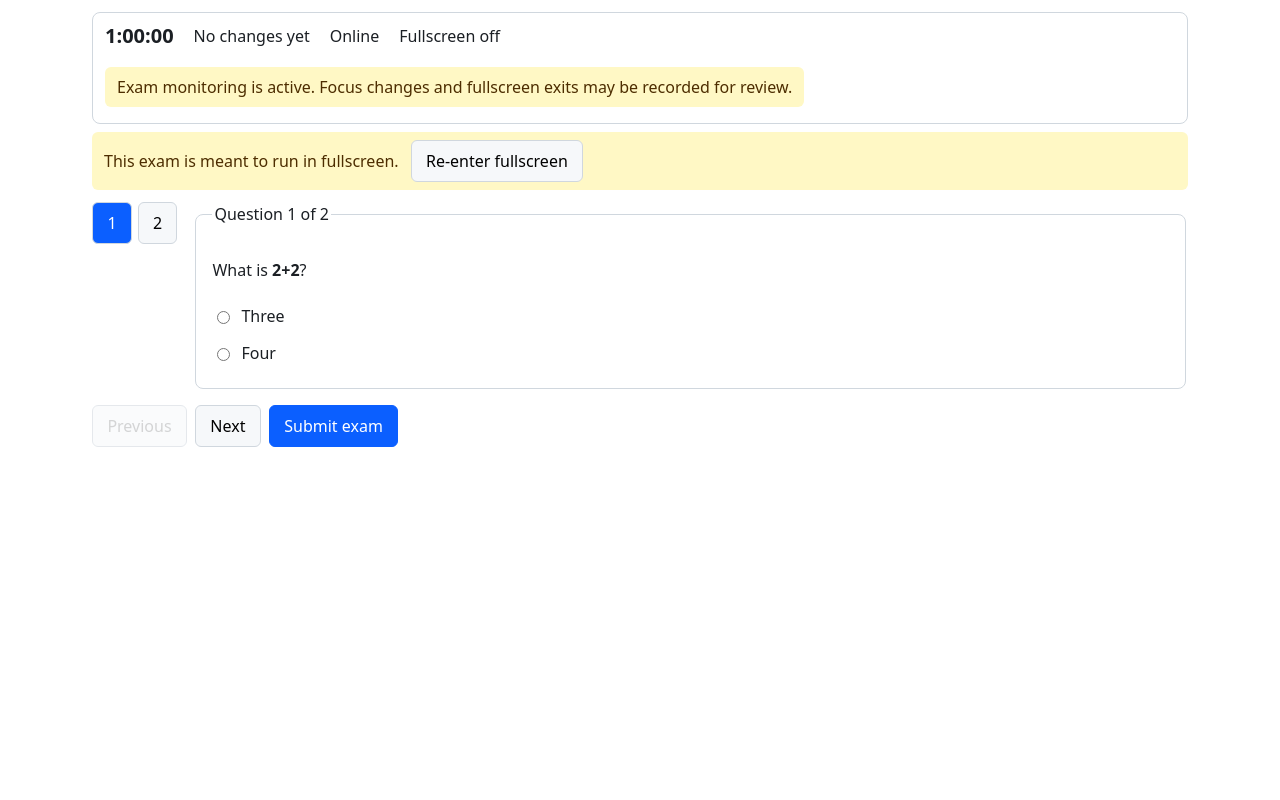
Test: B-17 web exam shell › keyboard: Alt+Arrow navigates, modal focuses confirm and Escape closes it, skip link exists
Press ArrowRight in the element named "Exam question", box [194,202,1188,389]
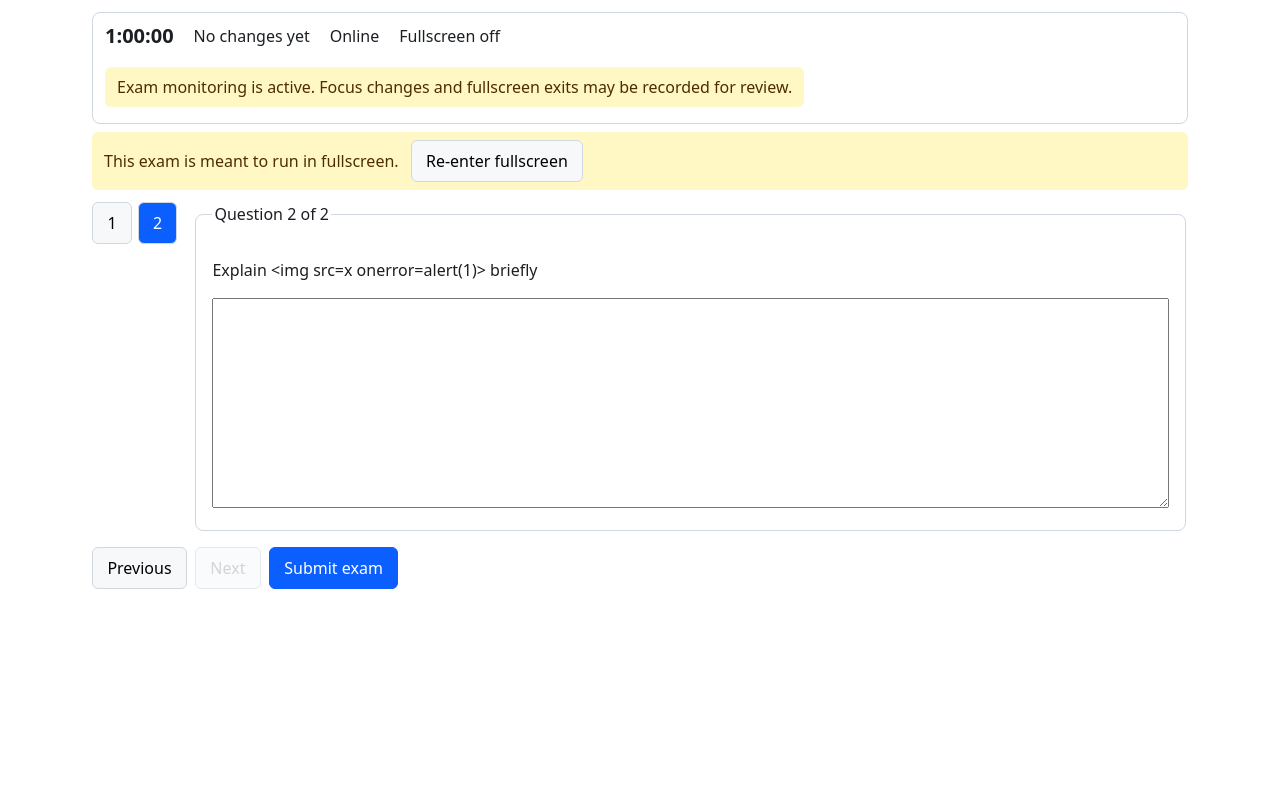
Expected: the text "Question 2 of 2" is shown, [212,202,331,226]
Press ArrowLeft in the element named "Exam question", box [194,202,1188,531]
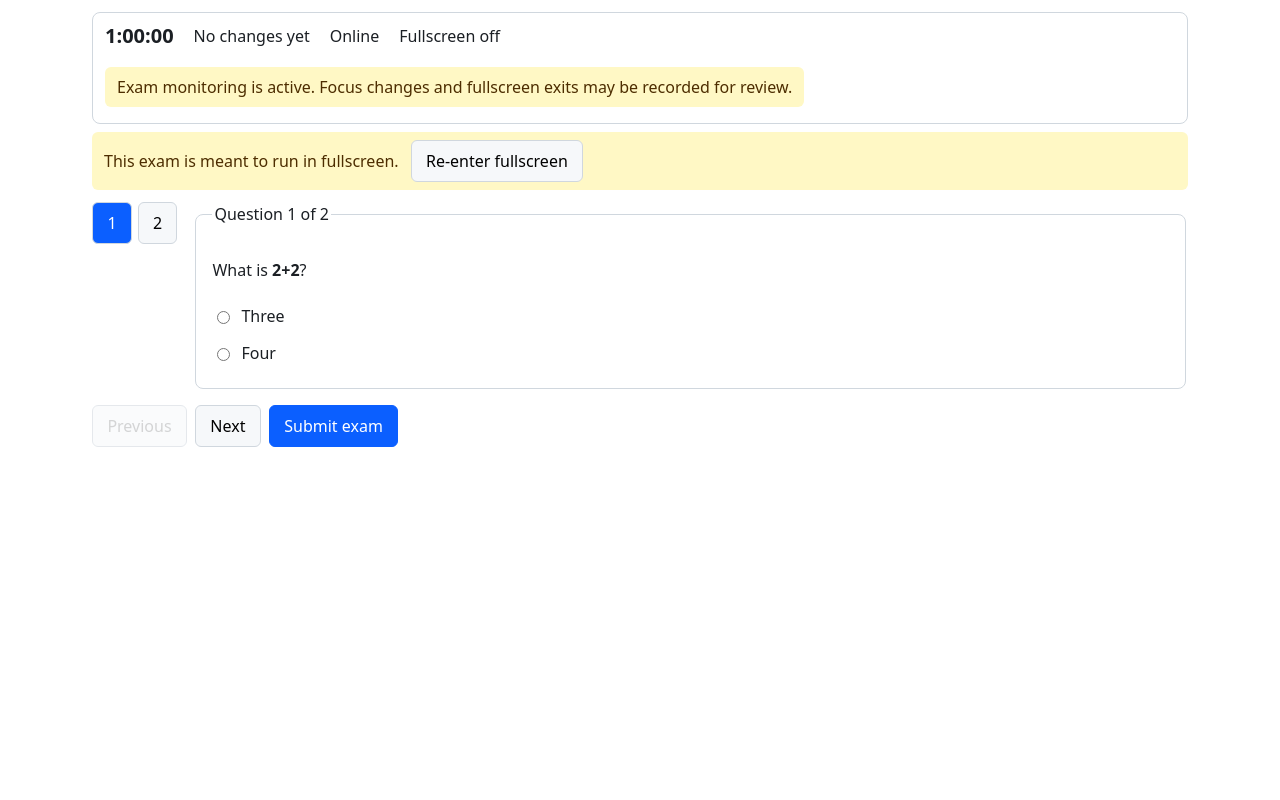
Expected: the text "Question 1 of 2" is shown, [212,202,331,226]
Click the button "Submit exam" at (334, 426), box [269,405,398,447]
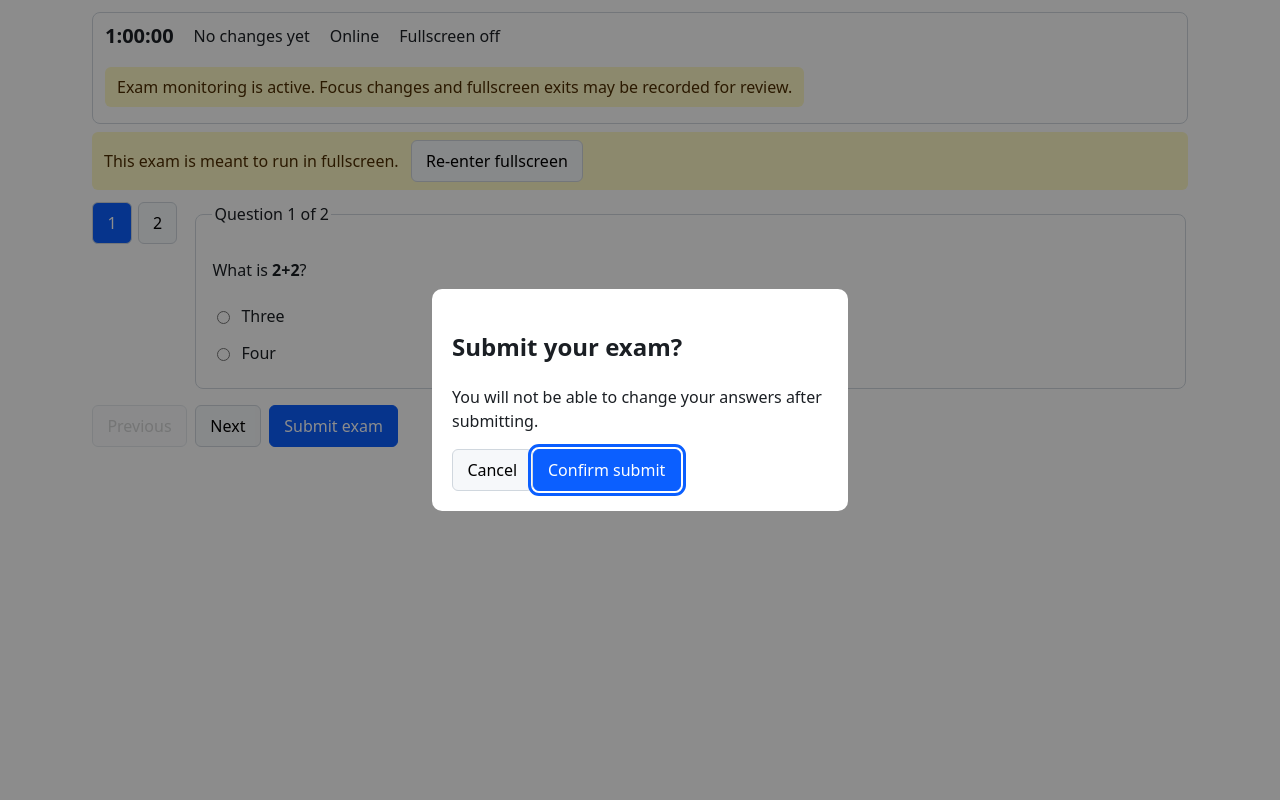
Press Escape
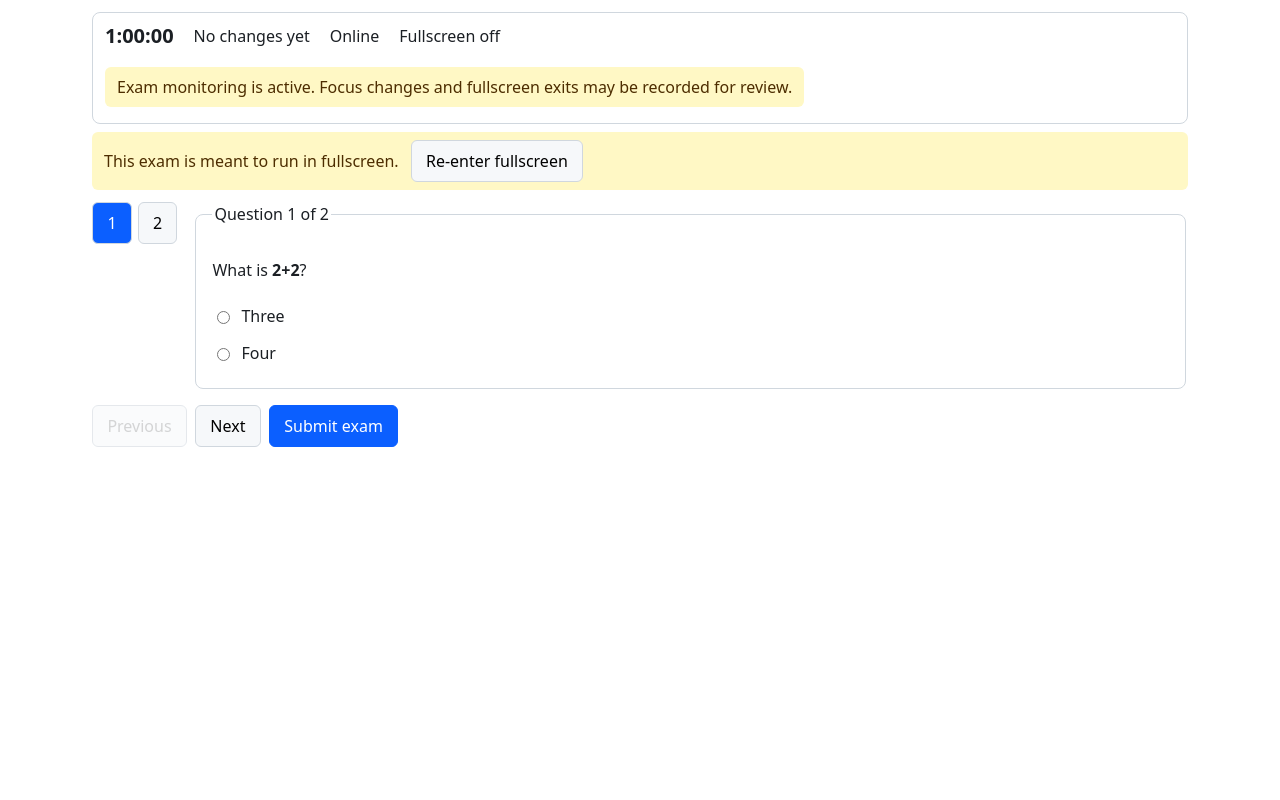
Expected: the dialog is gone
